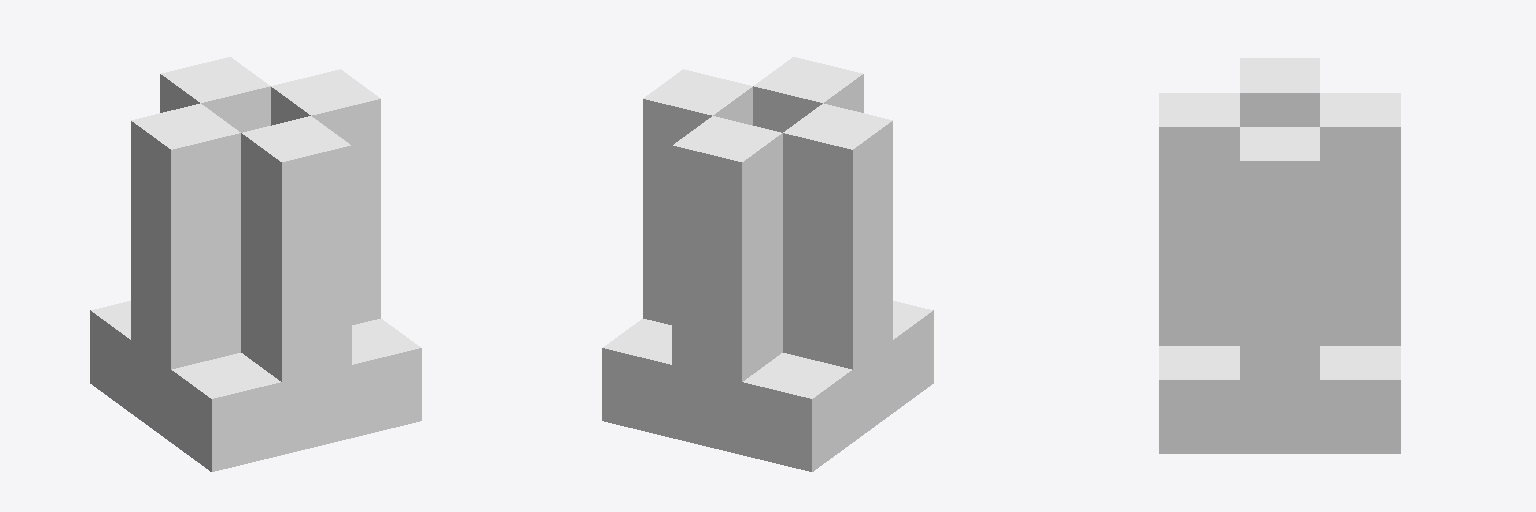
File: farm-14-beet_growth4.obj
3 renders of one model, left to right at view 1: azimuth 30°, elevation 25°; view 2: azimuth 150°, elevation 25°; view 3: azimuth 270°, elevation 25°, orthographic.
Visible parts, largest first — view 1: beet_growth4; view 2: beet_growth4; view 3: beet_growth4.
Part boxes in pixels (x1,y1,x2,y2): beet_growth4: (90, 57, 421, 471); beet_growth4: (602, 57, 933, 471); beet_growth4: (1159, 58, 1400, 453).
Size of the model in its own units: 0.3 by 0.4 by 0.3.